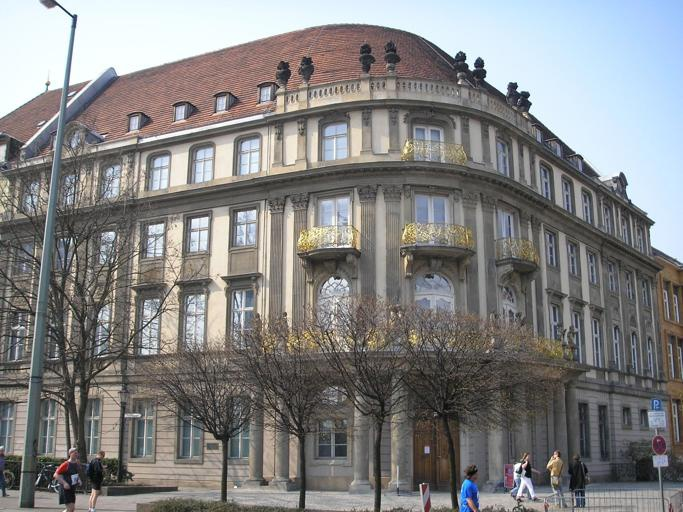non-vehicle: (34, 461, 59, 493), (2, 468, 14, 489)
